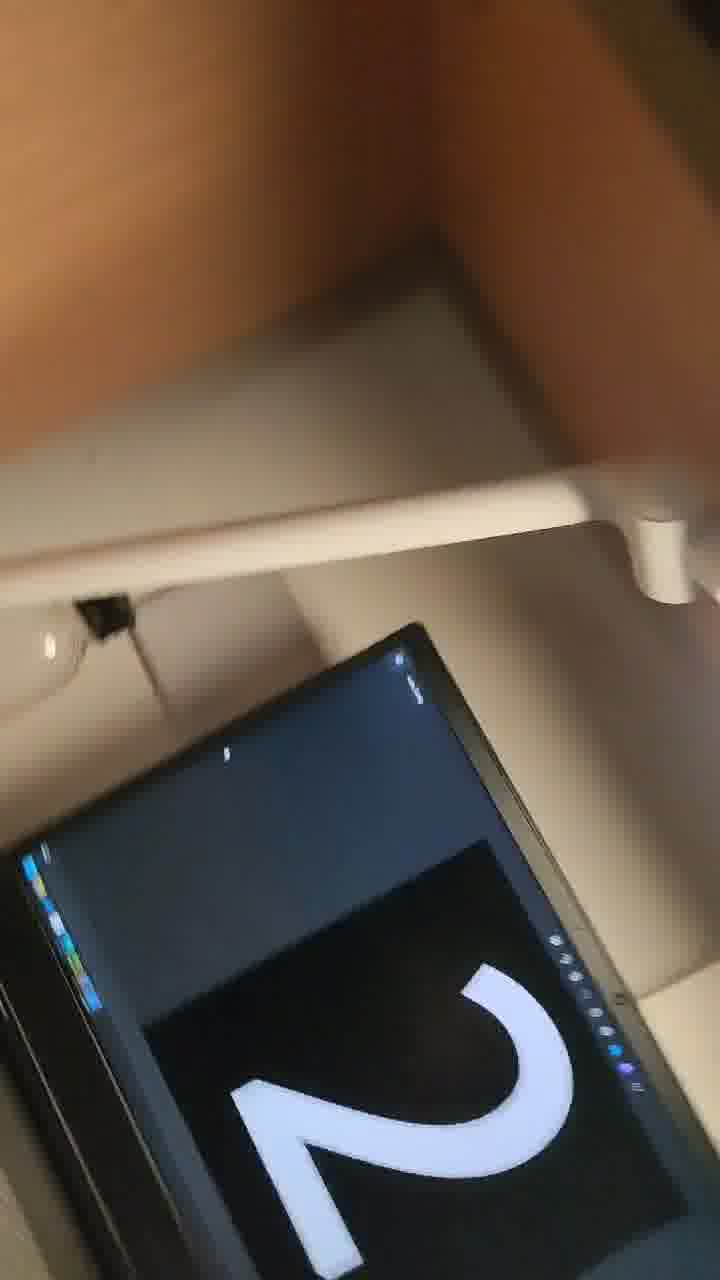two: (208, 873, 612, 1280)
